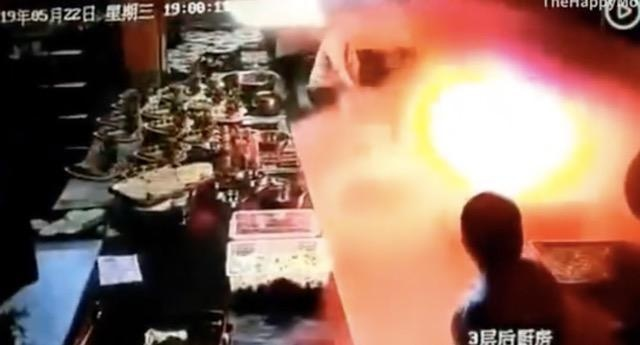fire: (405, 58, 610, 197)
